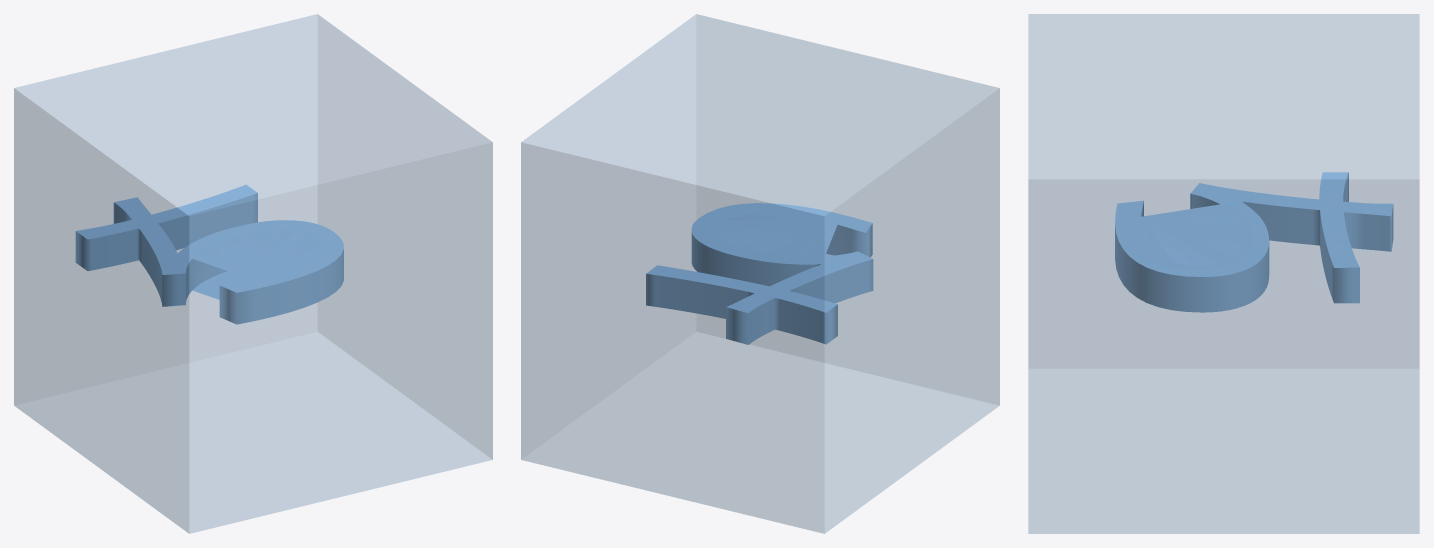
Rendered from Title_Ice2.obj.
The picture shows the model from 3 angles, left to right: view 1: azimuth 30°, elevation 25°; view 2: azimuth 150°, elevation 25°; view 3: azimuth 270°, elevation 25°; orthographic projection. The views are drawn at different scales.
Visible parts, largest first — view 1: 2.ち; view 2: 2.ち; view 3: 2.ち.
Boxes of the visible parts, bbox=[...] form: 2.ち: bbox=[14, 14, 492, 533]; 2.ち: bbox=[521, 14, 999, 533]; 2.ち: bbox=[1028, 14, 1419, 533].
Size of the model in its own units: 2 by 2 by 2.
1 material, 1 textured.
